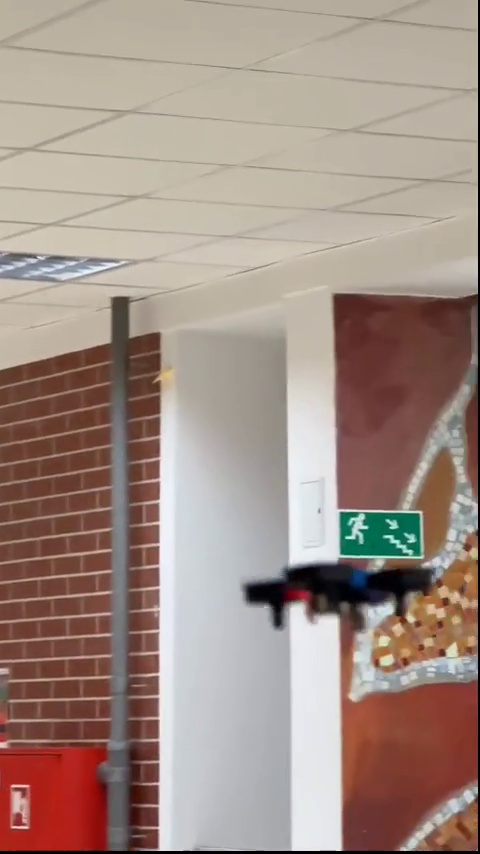drone: (238, 562, 432, 627)
